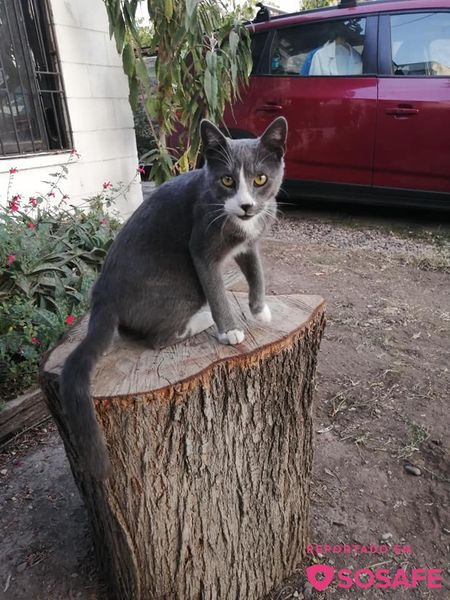cat: (49, 108, 313, 504)
